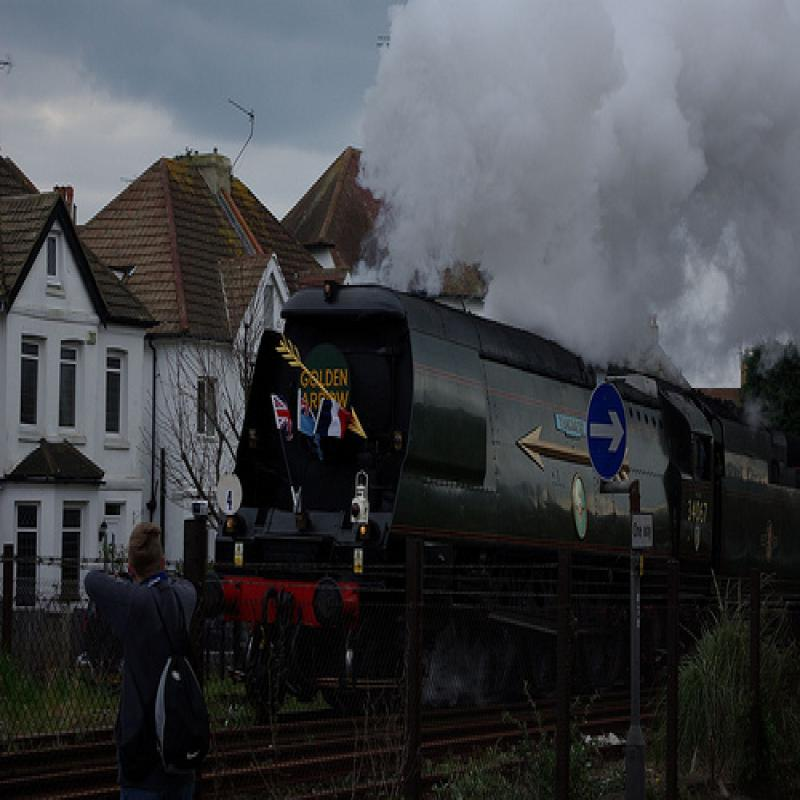train: (213, 284, 800, 739)
